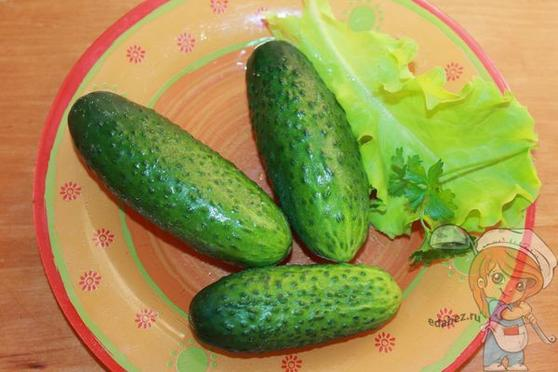cucumber: (66, 95, 297, 267), (246, 43, 382, 261), (182, 258, 408, 351)
